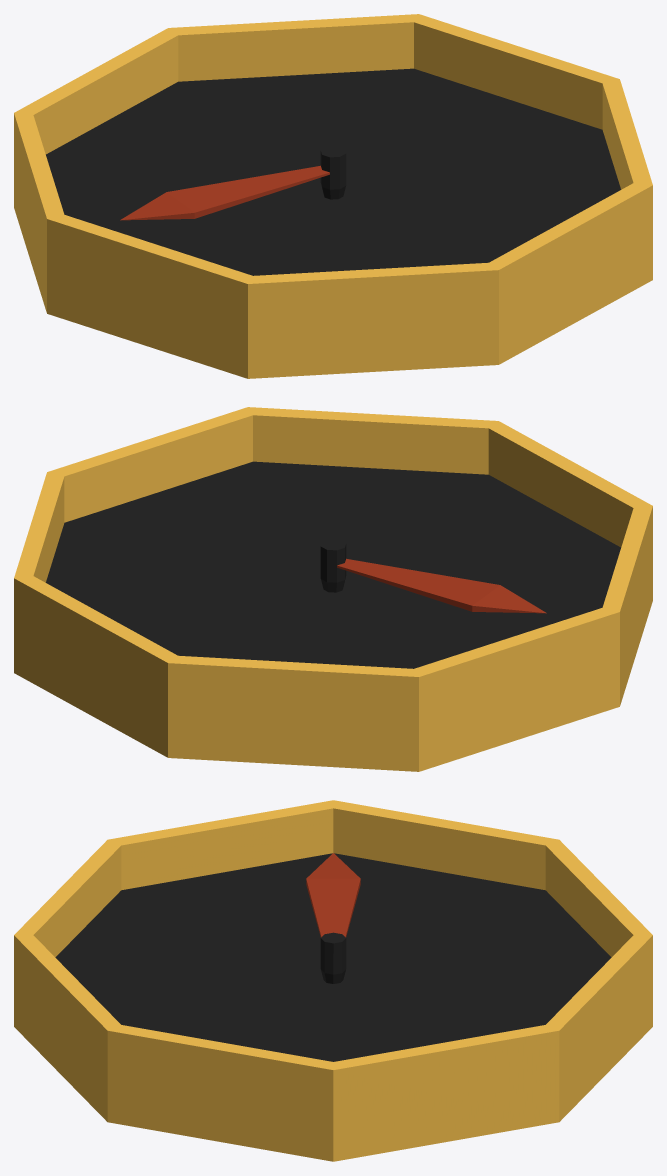
Rendered from Compass.fbx.
3 renders of one model, top to bottom at view 1: azimuth 30°, elevation 25°; view 2: azimuth 150°, elevation 25°; view 3: azimuth 270°, elevation 25°, orthographic. The views are drawn at different scales.
Parts seen in each view (by area): view 1: compass, hand; view 2: compass, hand; view 3: compass, hand.
Boxes of the visible parts, <box> form: compass: <box>14,14,652,378</box>; hand: <box>120,165,329,220</box>; compass: <box>14,407,652,771</box>; hand: <box>337,558,546,613</box>; compass: <box>14,800,652,1161</box>; hand: <box>306,853,360,937</box>.
Size of the model in its own units: 200 by 31.64 by 200.
